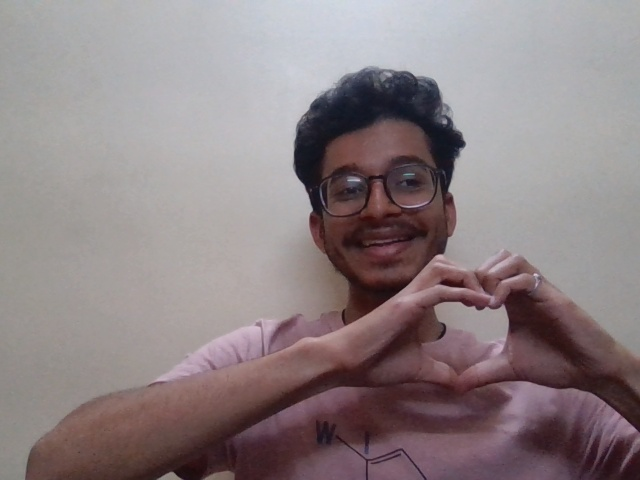silent-voice: (376, 248, 580, 413)
